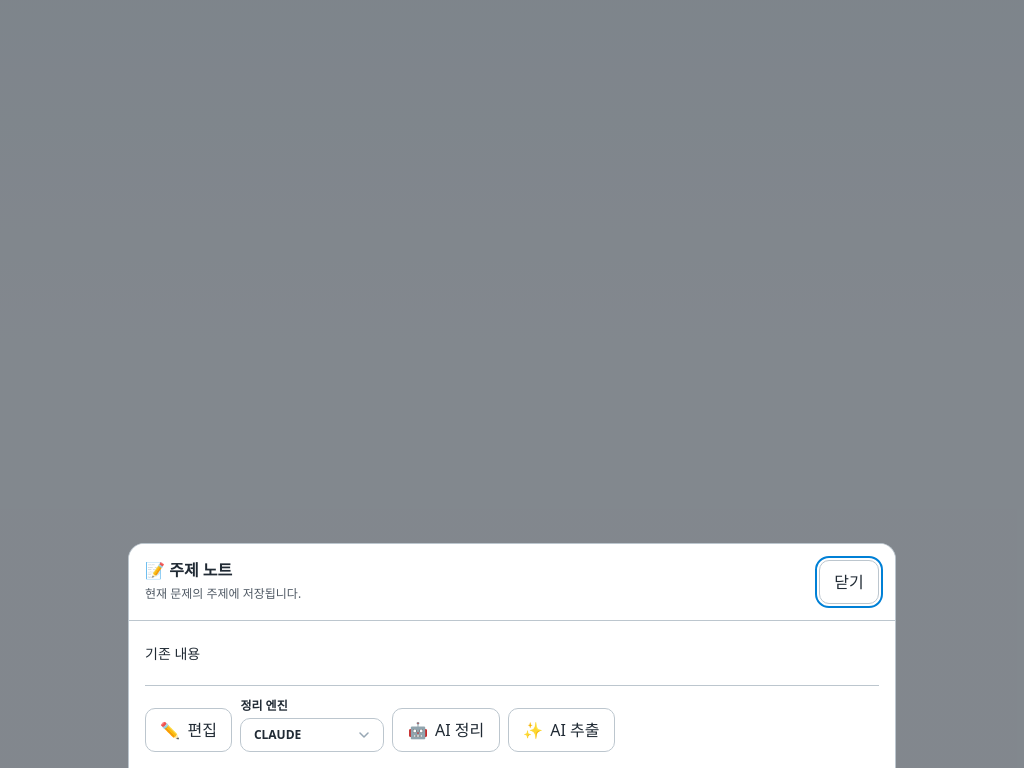
it: NotePanel › 저장 실패 시 오류와 작성 중인 초안을 유지한다
Click the button "✏️ 편집": [189, 730] box x1=145 y1=708 x2=232 y2=752
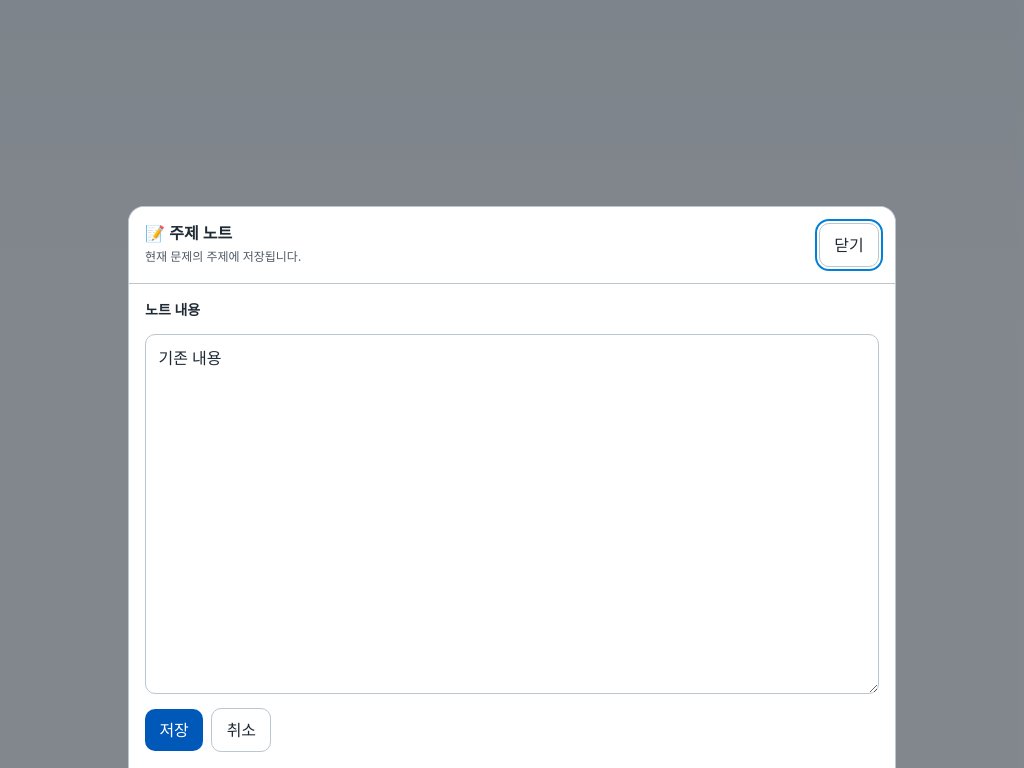
Replace the text in the text box labelled "노트 내용" with "지키고 싶은 초안": [512, 514] box x1=145 y1=334 x2=879 y2=694
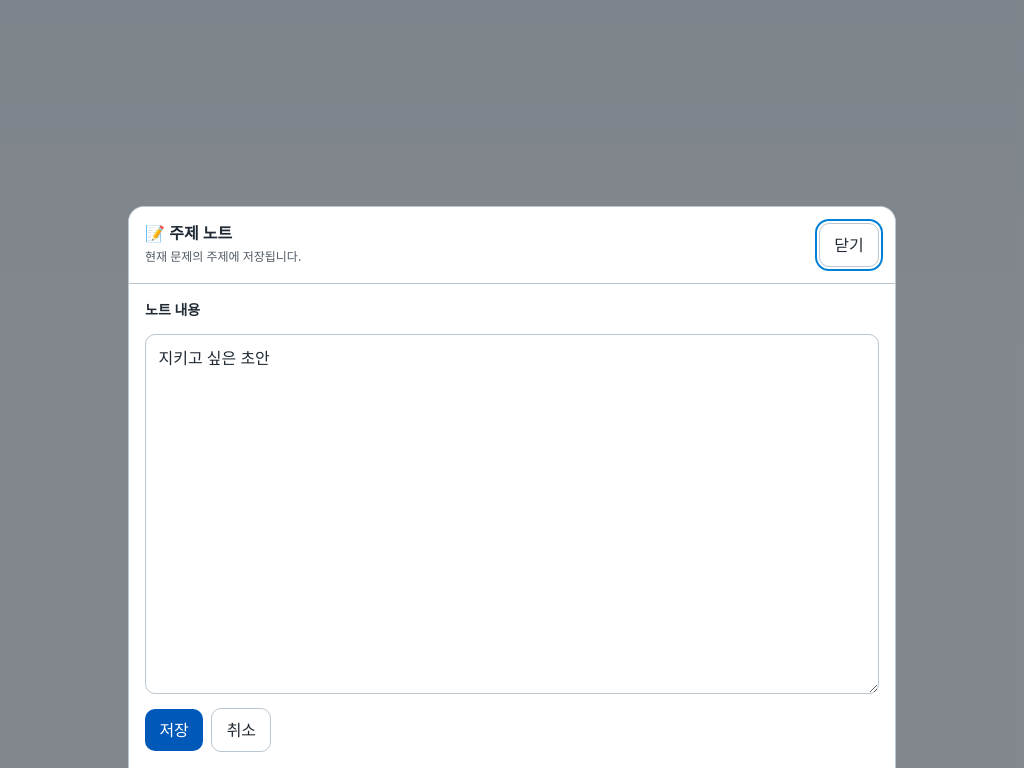
Click the button "저장": [174, 730] box x1=145 y1=709 x2=203 y2=751
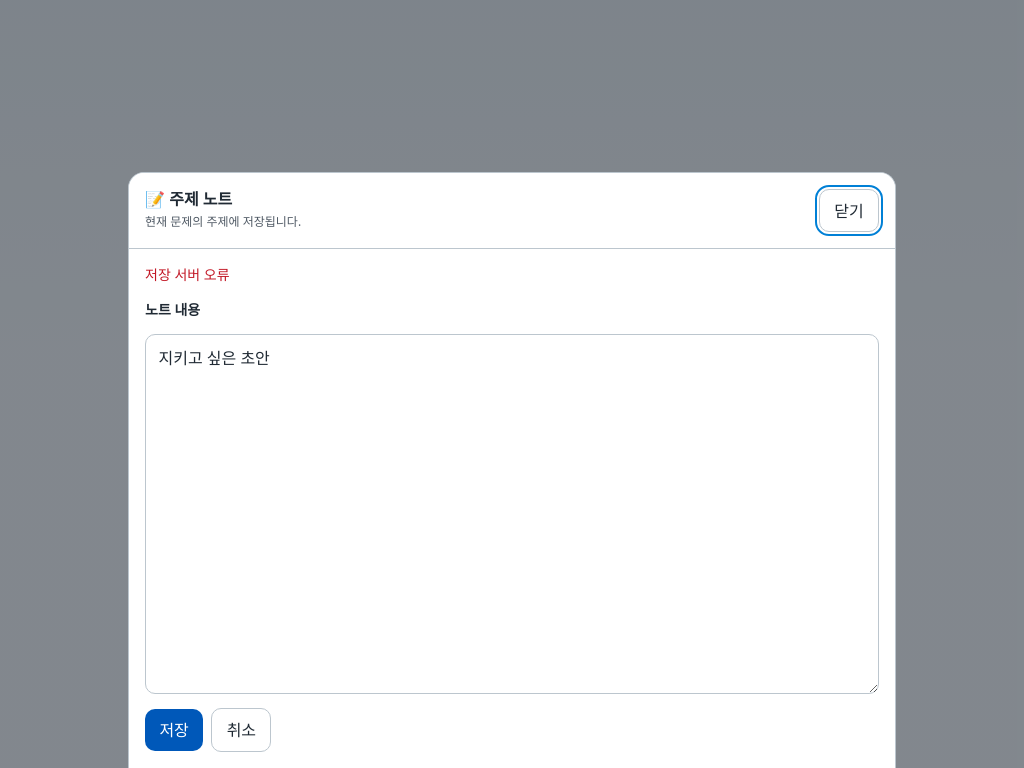
Expected: the message reads "저장 서버 오류", x1=145 y1=266 x2=230 y2=284
